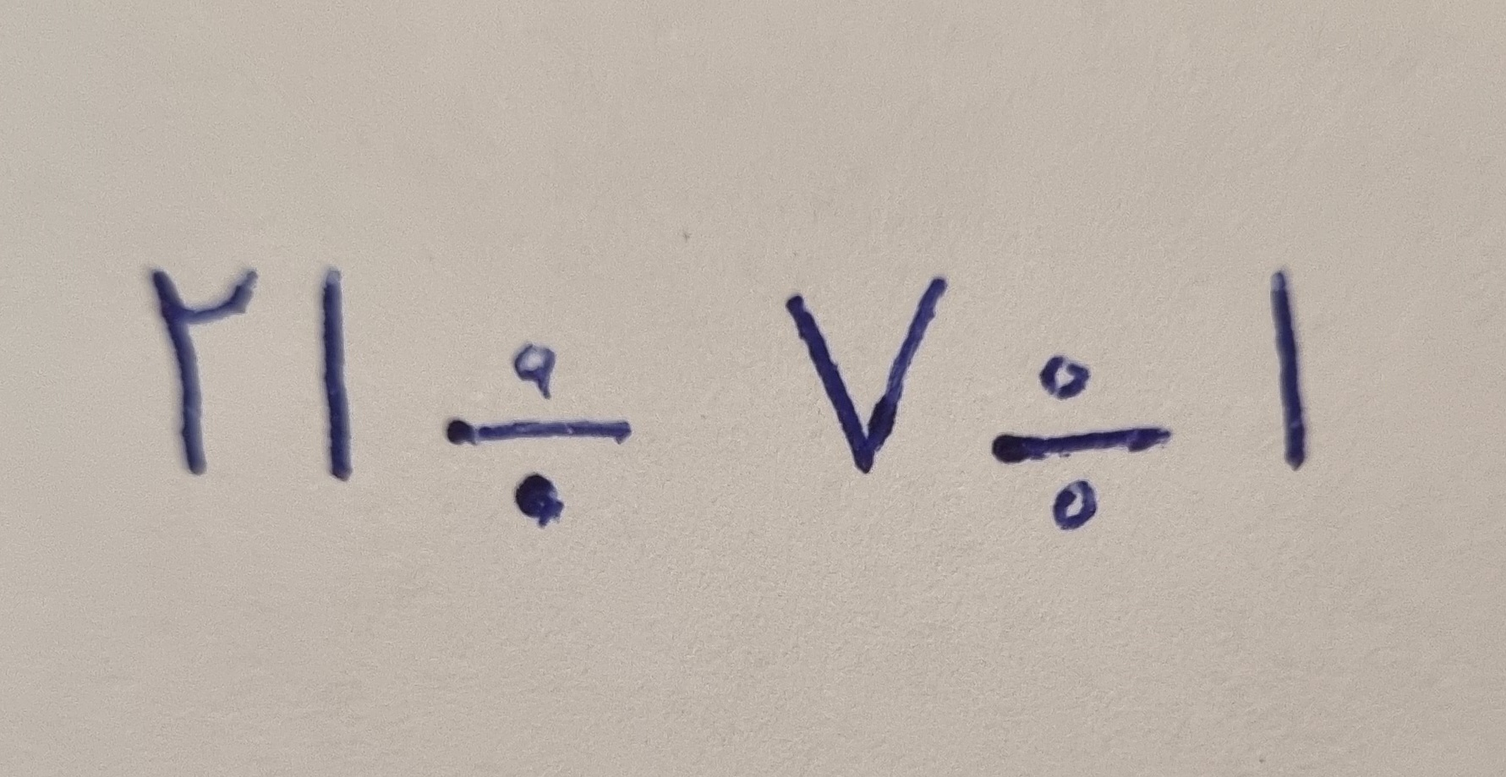character: (439, 339, 636, 528), (784, 273, 949, 478), (990, 352, 1175, 533), (148, 264, 262, 479), (1265, 267, 1313, 475), (315, 262, 357, 484)
